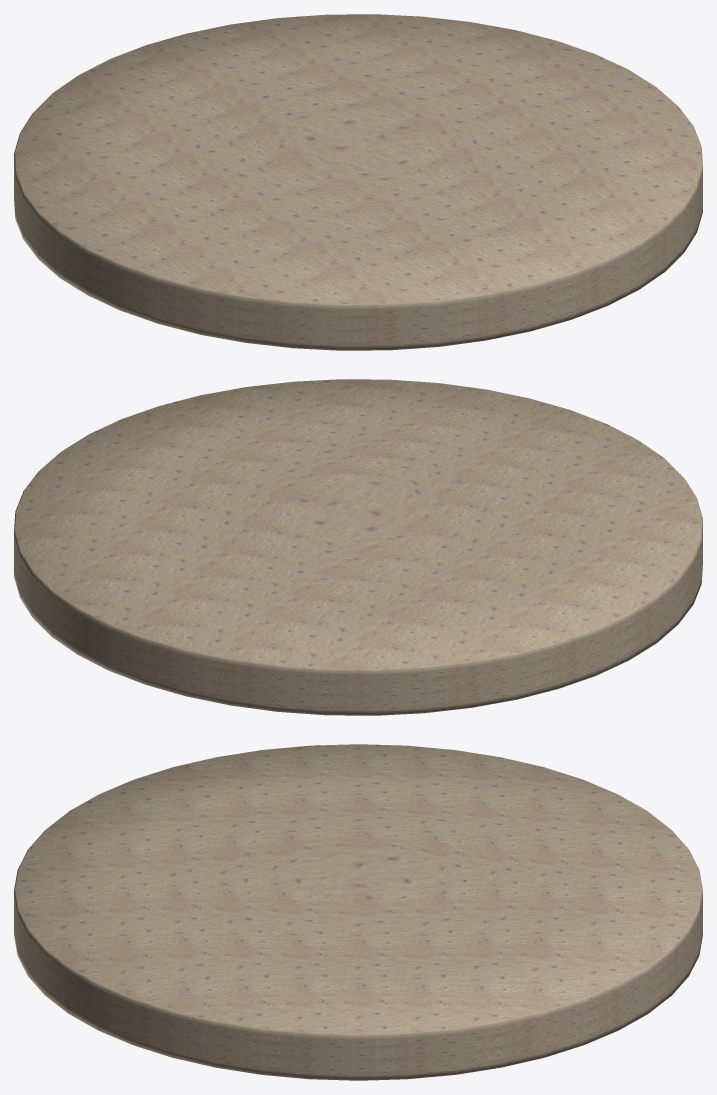
Rendered from AsientoSilla.obj.
3 views of the same model, one above another, from view 1: azimuth 30°, elevation 25°; view 2: azimuth 150°, elevation 25°; view 3: azimuth 270°, elevation 25° (orthographic).
Parts seen in each view (by area): view 1: Asiento; view 2: Asiento; view 3: Asiento.
Part boxes in pixels (box(x1,y1,x2,y2)): Asiento: box(14, 14, 702, 350); Asiento: box(14, 379, 702, 715); Asiento: box(14, 744, 702, 1080).
Size of the model in its own units: 0.405 by 0.0398 by 0.405.
